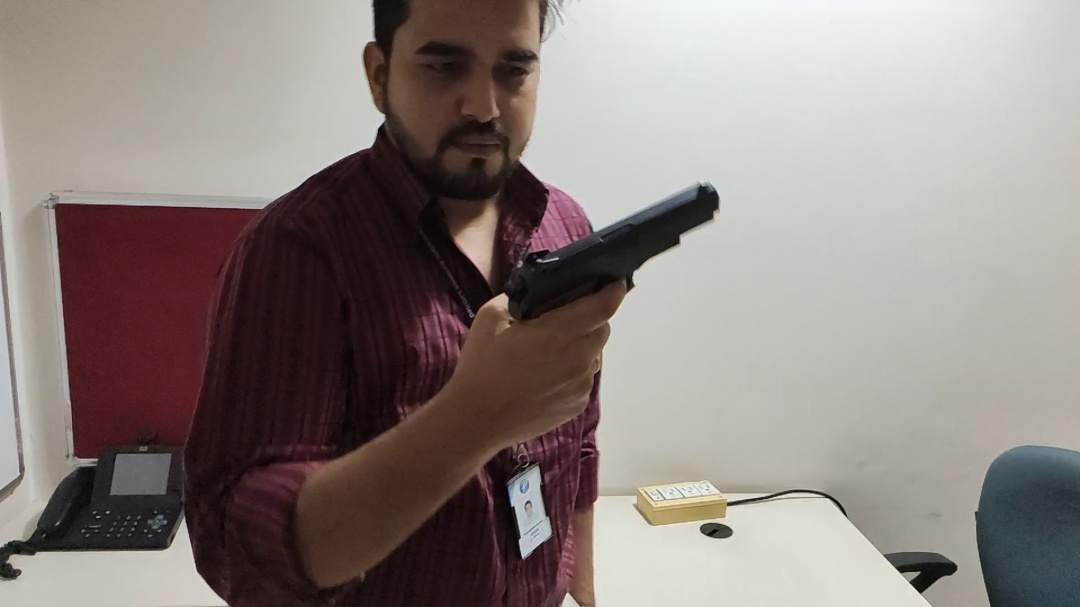gun: (491, 176, 739, 403)
